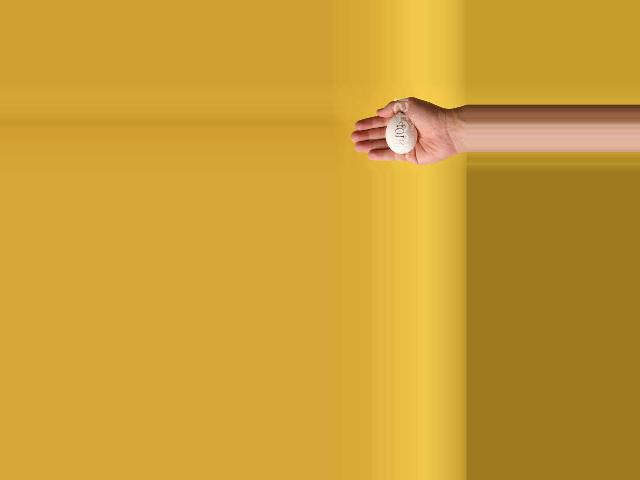egg: (385, 113, 416, 154)
